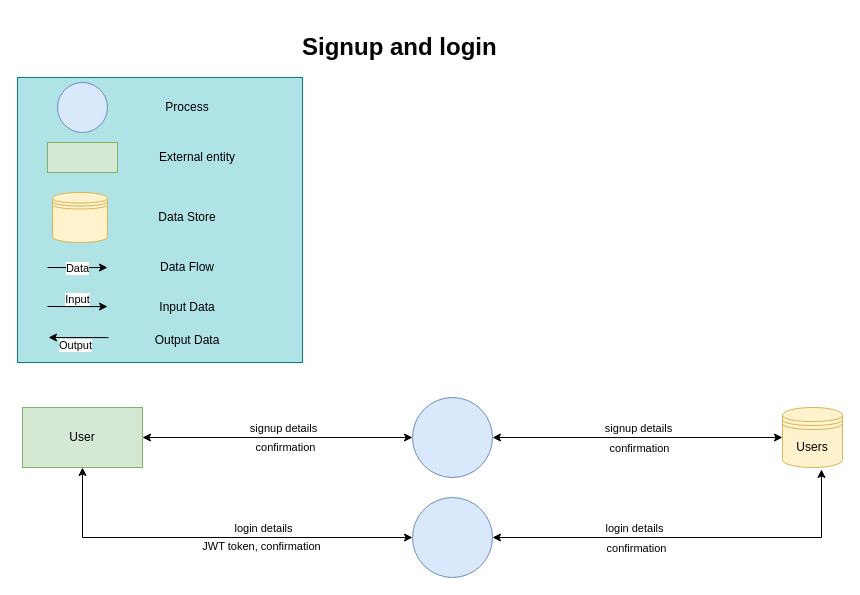
This 860x595 diagram has some shape labels left out. Each missing label, with the centre of its shape:
"1. Signup" belongs at pixel 452 437.
"2. Login" belongs at pixel 452 537.
